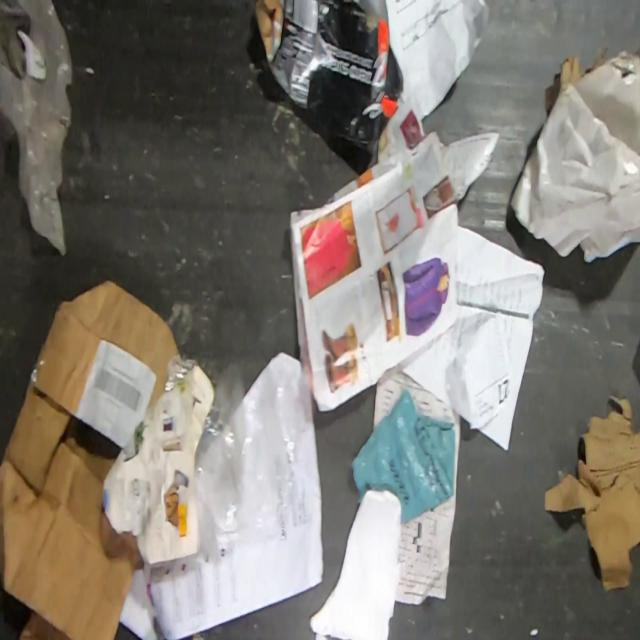cardboard: (0, 277, 180, 639), (246, 0, 406, 177)
soft_plastic: (194, 350, 315, 564), (0, 0, 75, 257), (350, 387, 457, 525), (164, 354, 197, 394)
